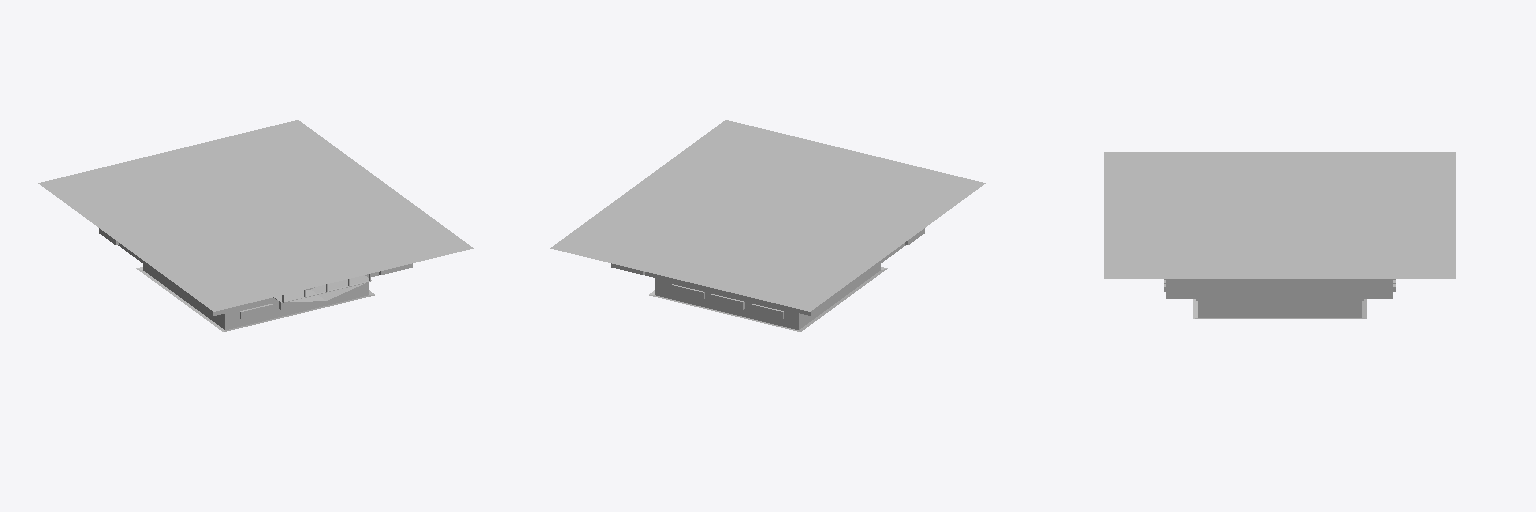
Rendered from CenterCafe.obj.
3 views of the same model, side by side, from view 1: azimuth 30°, elevation 25°; view 2: azimuth 150°, elevation 25°; view 3: azimuth 270°, elevation 25° (orthographic).
Visible parts, largest first — view 1: Cube.13; view 2: Cube.13; view 3: Cube.13.
Part boxes in pixels (x1,y1,x2,y2): Cube.13: (38, 120, 473, 331); Cube.13: (550, 120, 985, 331); Cube.13: (1104, 152, 1455, 318).
Bounding box in the file's own units: 1172 × 346 × 1372.